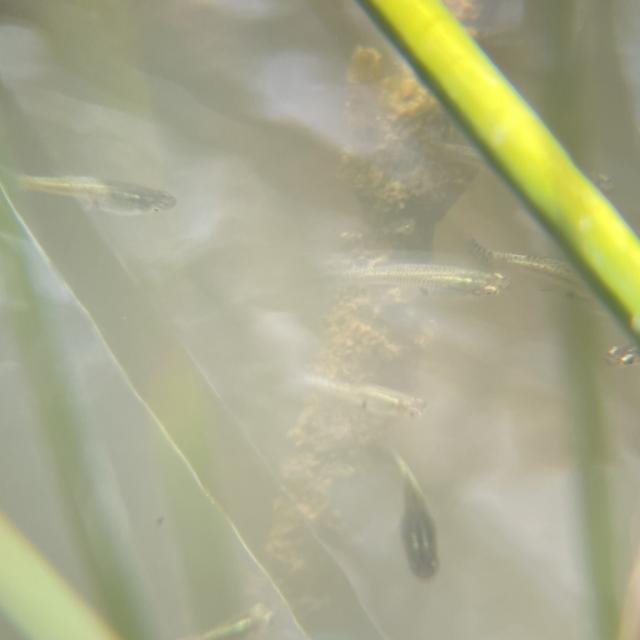Sivrisinek Baligi: (306, 226, 520, 330), (356, 444, 454, 592), (284, 350, 442, 433), (7, 159, 189, 225)
